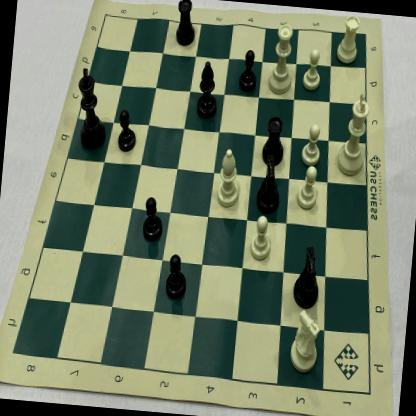black-bishop: (191, 56, 223, 126)
black-king: (69, 60, 116, 156)
black-knight: (289, 240, 324, 314), (252, 150, 288, 218)
black-pawn: (138, 191, 168, 246), (160, 250, 190, 304), (236, 46, 263, 95), (114, 106, 140, 154)
black-rook: (256, 112, 288, 174), (171, 0, 200, 52)
white-bishop: (212, 142, 248, 214)
white-king: (332, 82, 376, 182)
white-knight: (282, 306, 326, 378)
white-pawn: (245, 209, 278, 264), (292, 162, 324, 213), (298, 47, 326, 97), (300, 120, 328, 170)
white-queen: (264, 18, 298, 100)
white-rook: (334, 10, 365, 68)
